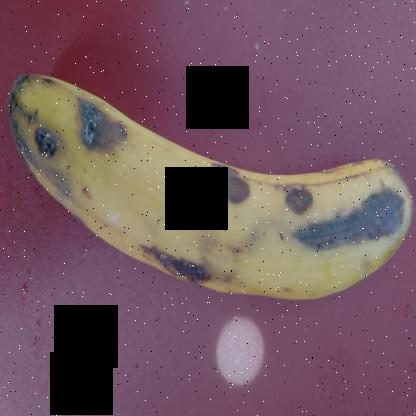ripe: (106, 91, 415, 319)
rotten: (6, 56, 130, 218)
